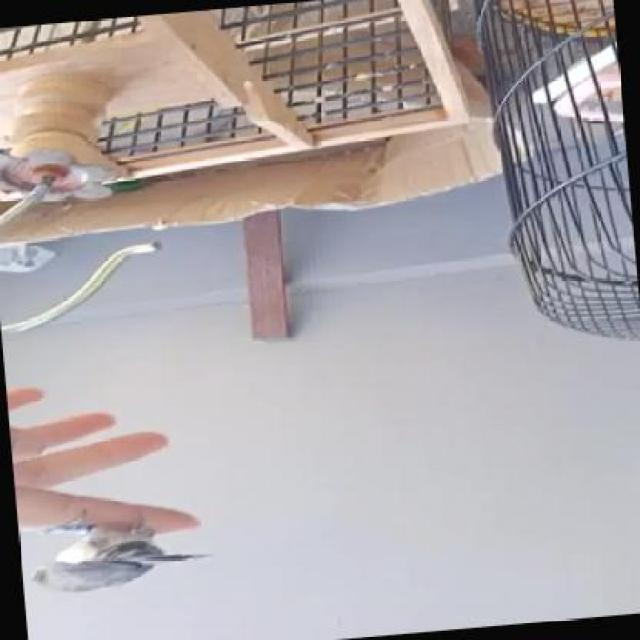Bird: (20, 506, 225, 625)
